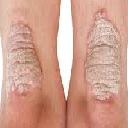Psoriasis: (84, 9, 123, 101), (6, 22, 43, 91)
